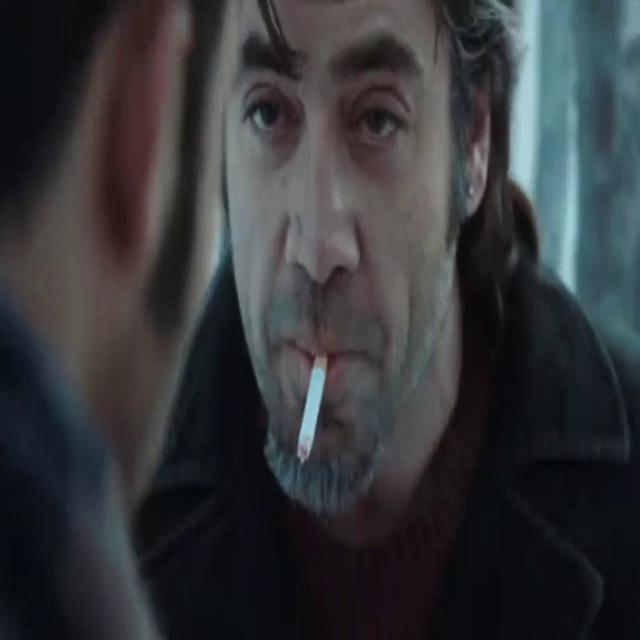Smooking: (291, 354, 332, 484)
